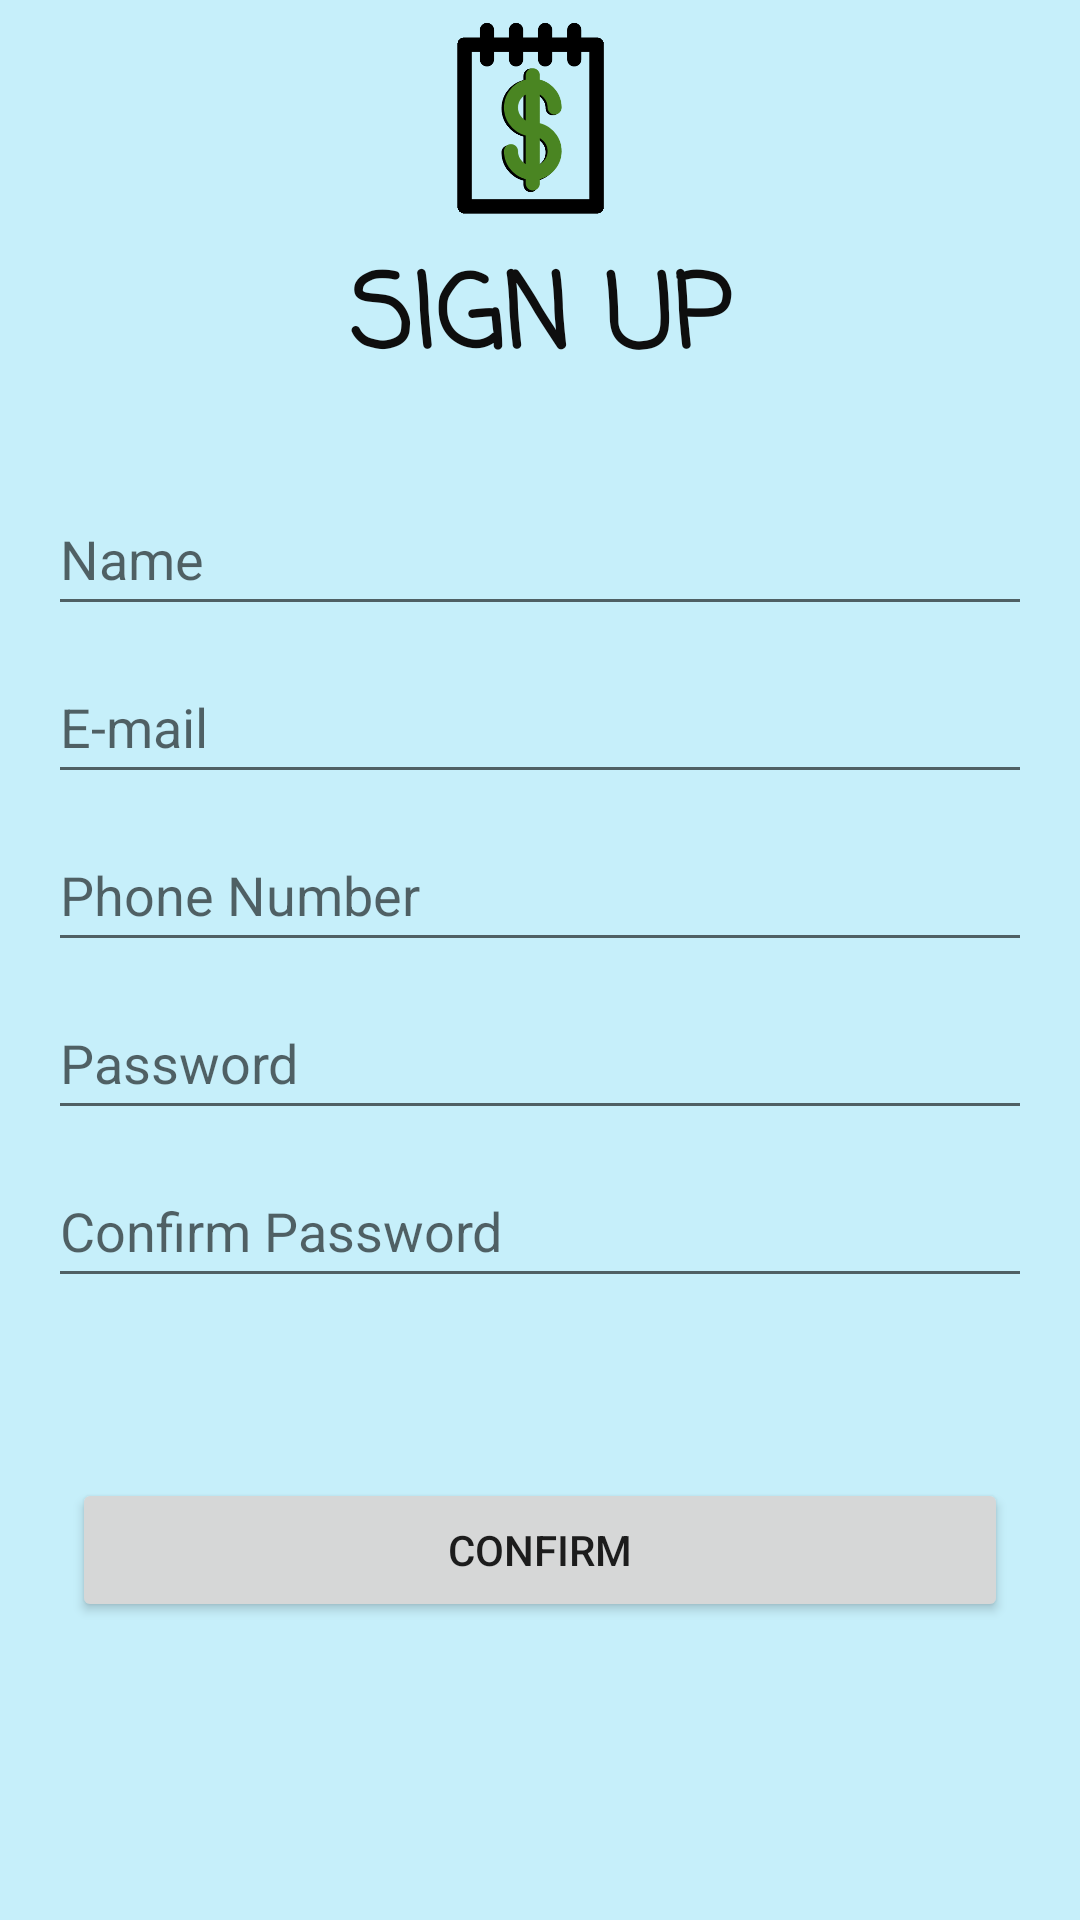

Locate icon controls on the screen. Image size 1080w x 1920h, boxes as (x1, y1, x2, y2).
moneynotepic: (457, 23, 604, 214)
